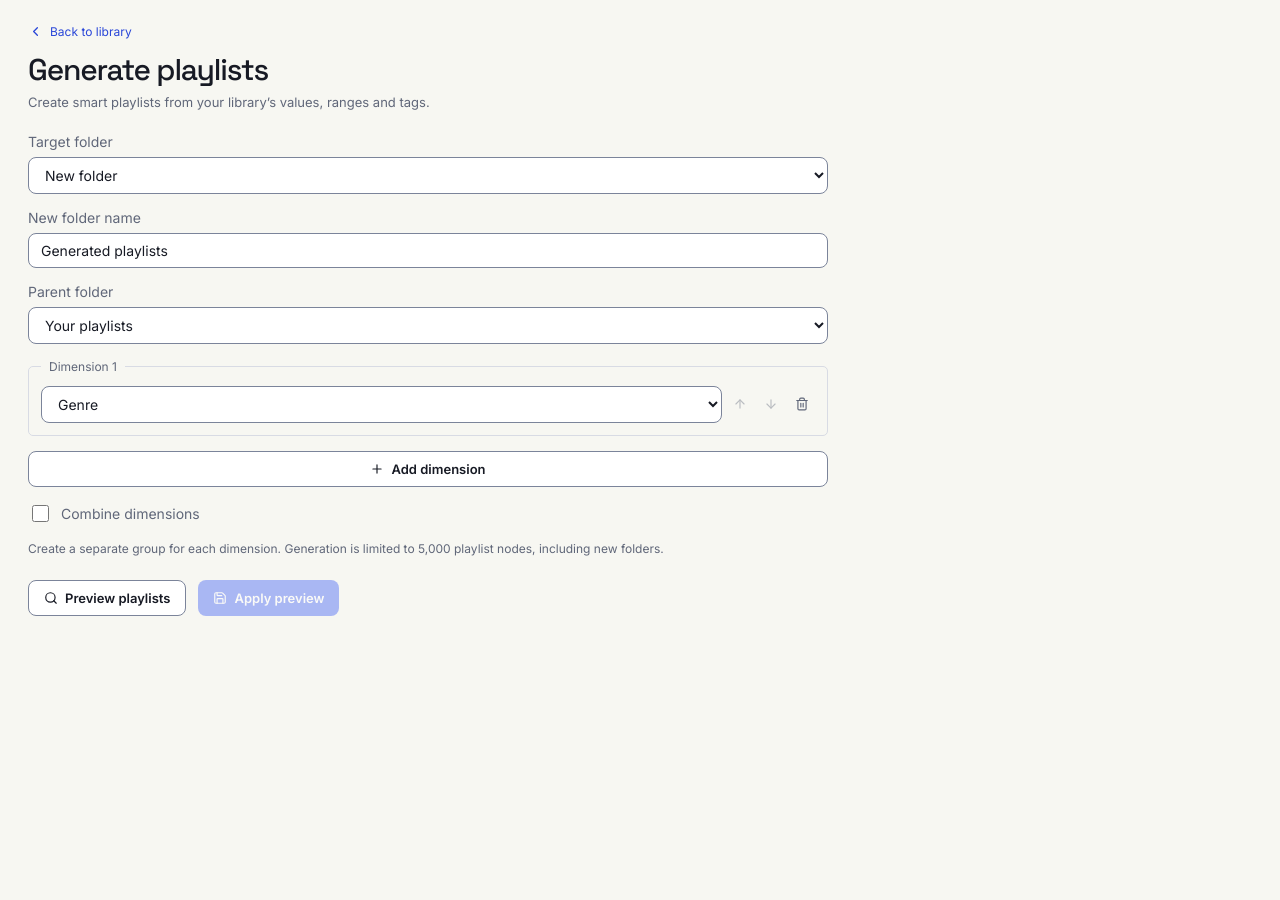
Test case: smart playlist generation › requires explicit full-domain energy and invalidates a preview when options change
The image size is (1280, 900).
Select "Energy" in the dropdown named "Generation dimension 1" at (382, 404), box [41,386,722,422]
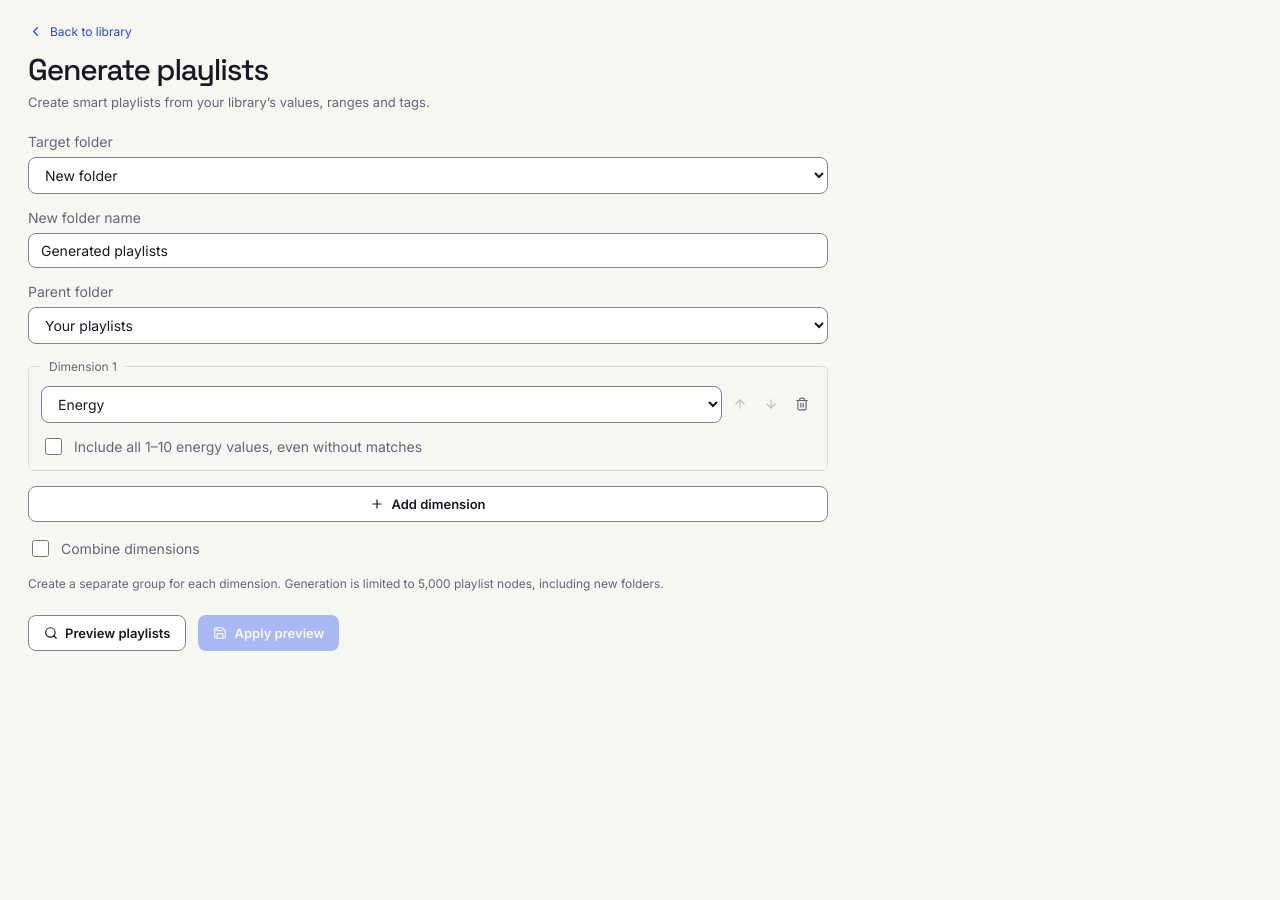
Click the checkbox named "Include unobserved values for dimension 1" at (54, 446), box [45,438,62,454]
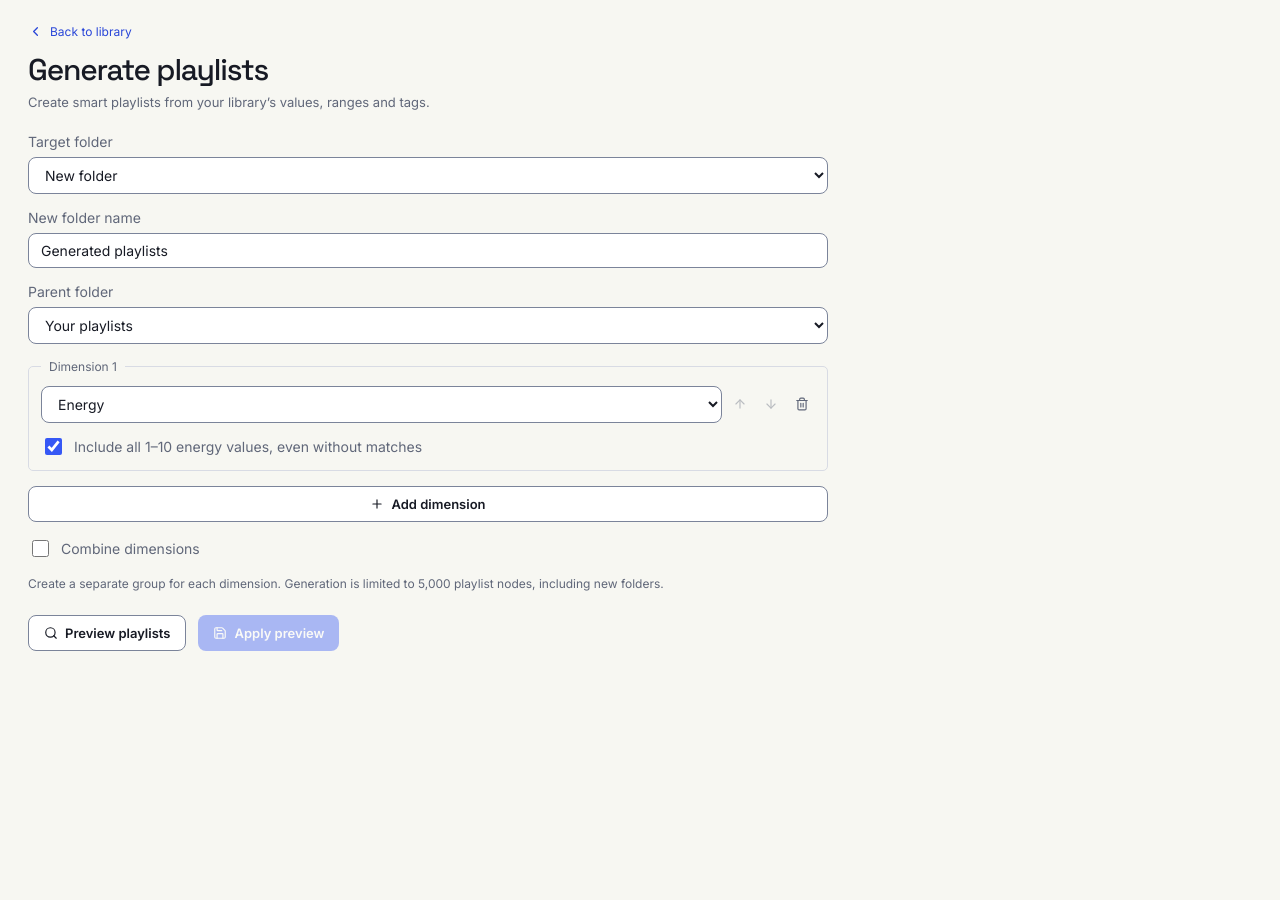
Click the button "Preview playlists" at (107, 632), box [28,614,186,650]
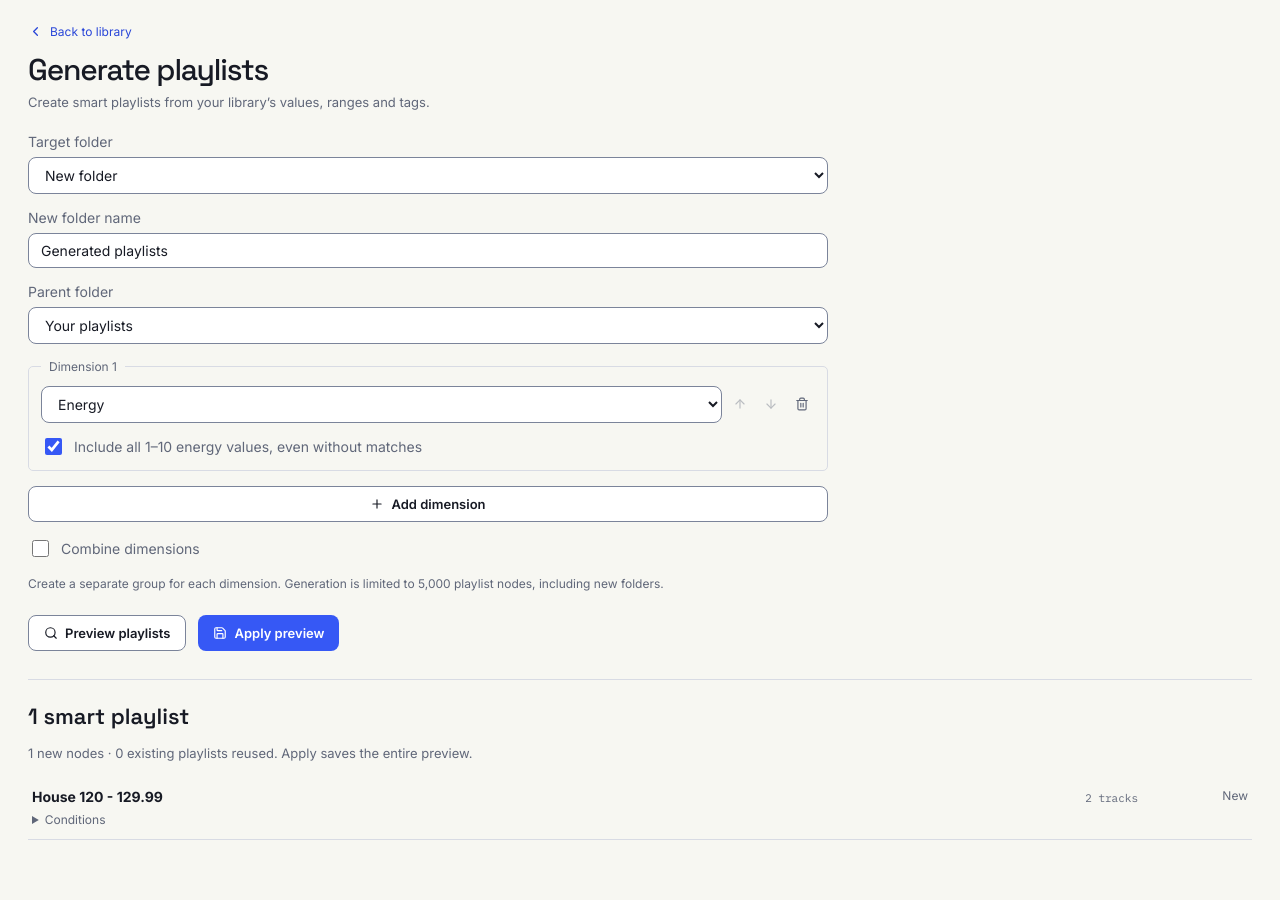
Check: the text "House 120 - 129.99" is shown, box [32,788,163,805]
Replace the text in the field labelled "New folder name" with "Changed" at (428, 250), box [28,232,828,268]
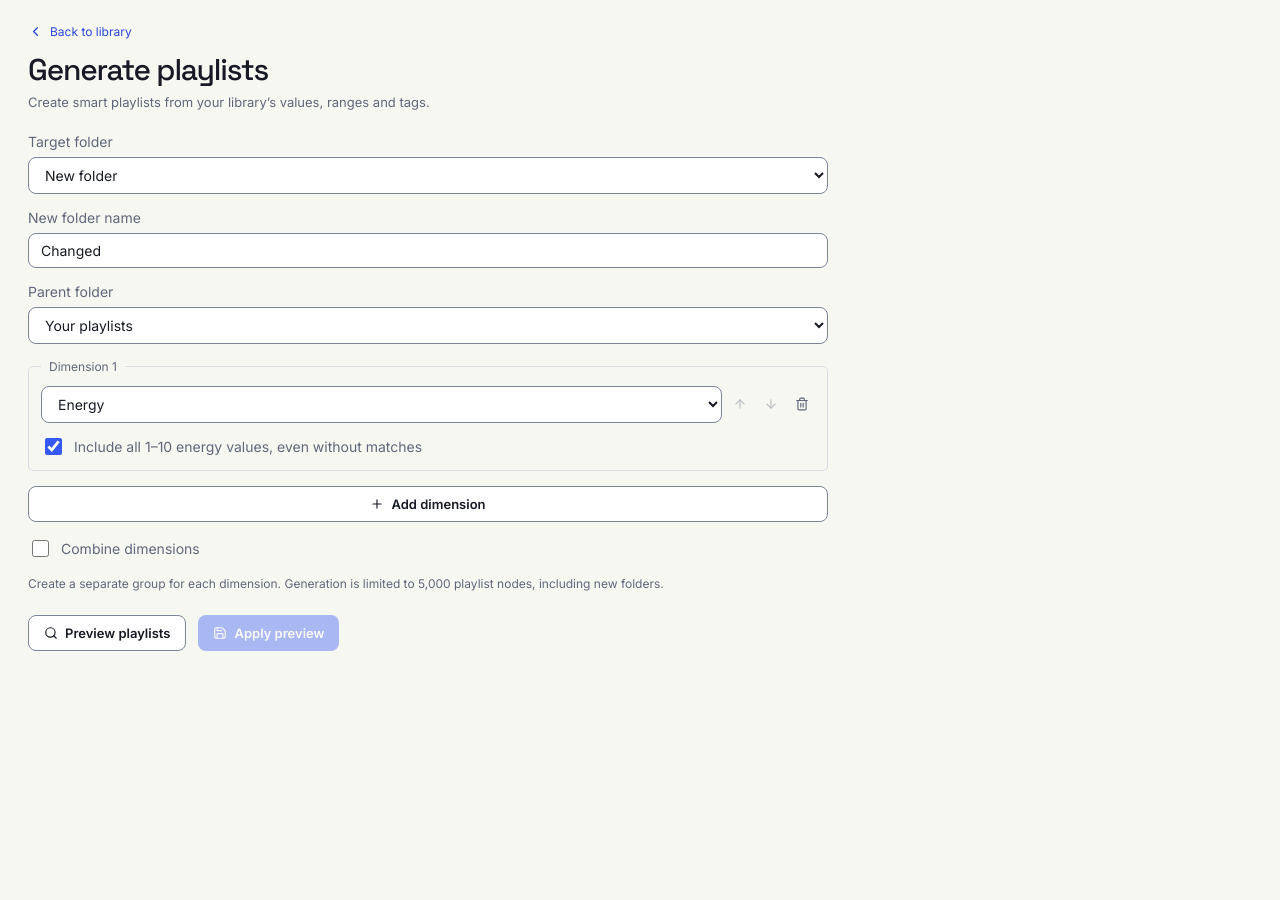
Check: the button "Apply preview" is disabled, box [198,614,340,650]
